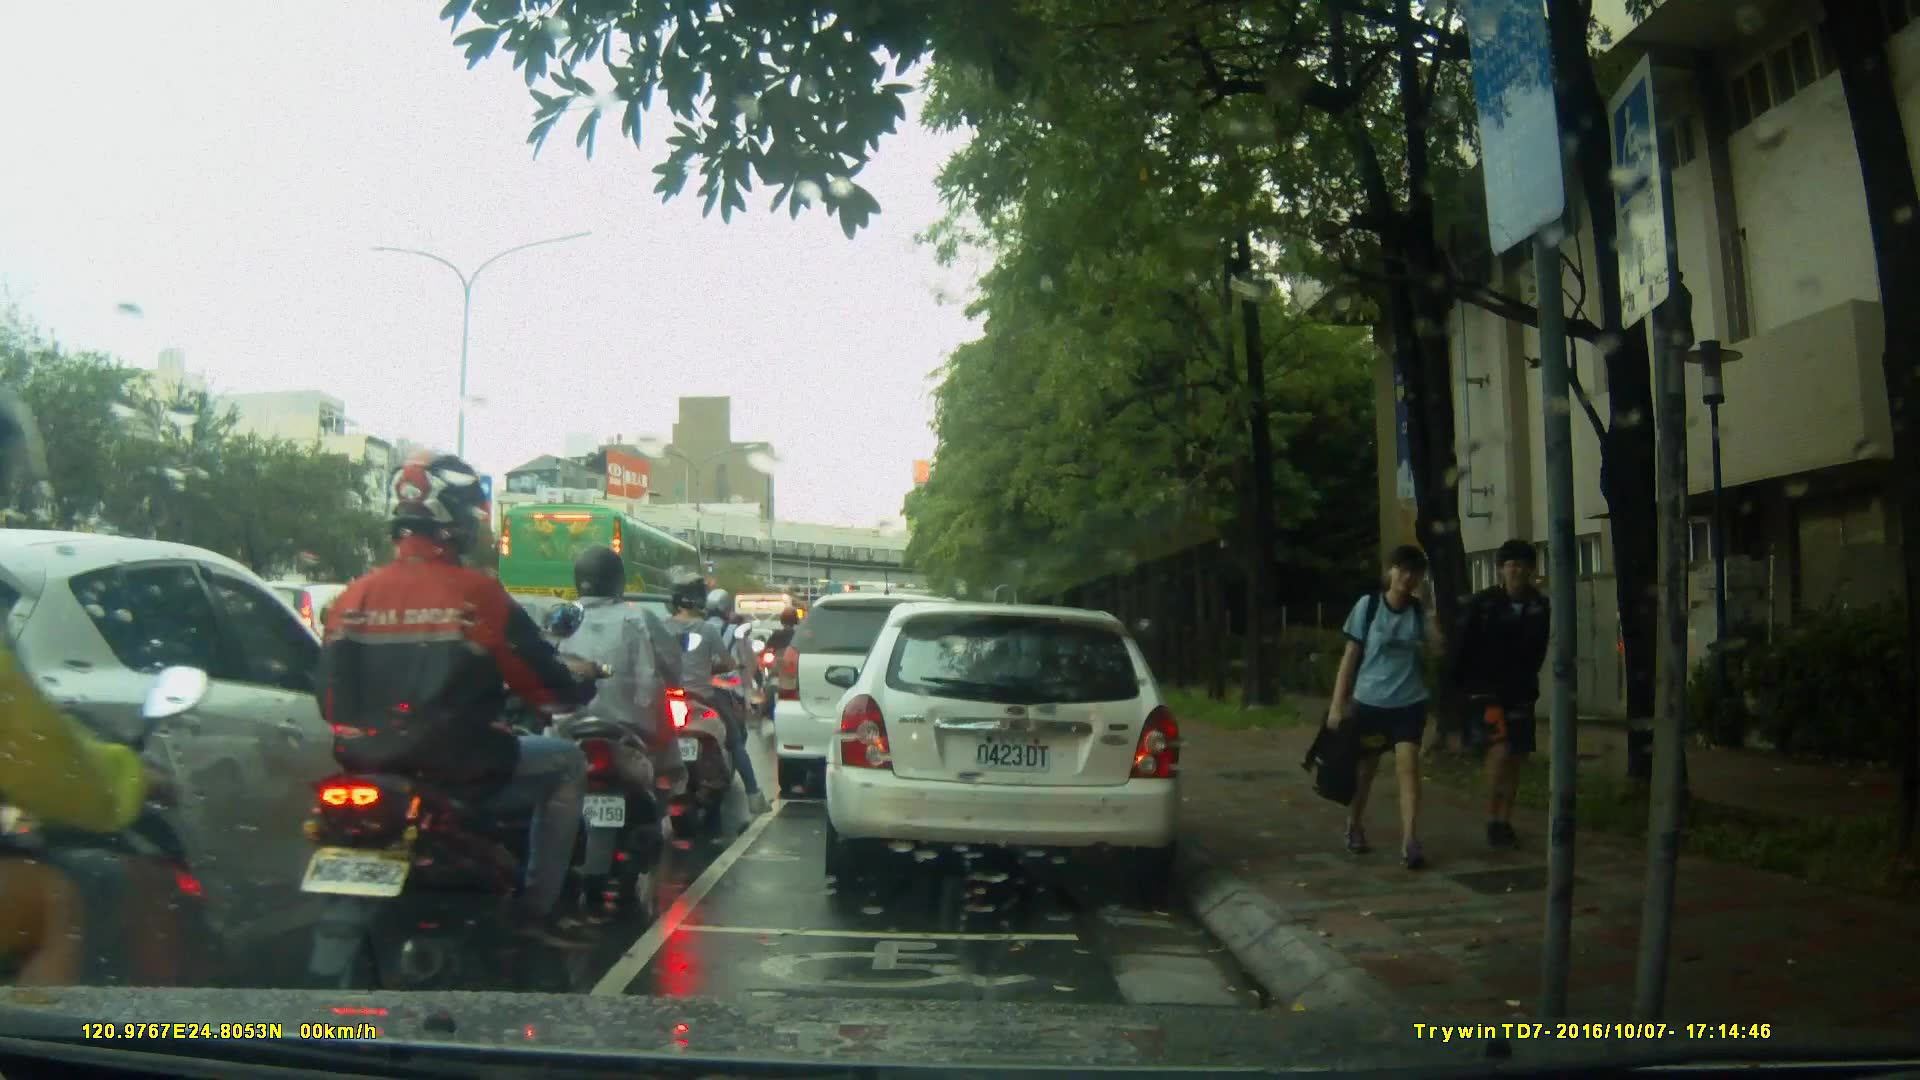pedestrian: (1307, 535, 1464, 867), (1458, 538, 1557, 864)
rider: (301, 446, 613, 1004), (534, 548, 713, 898), (637, 564, 757, 828), (693, 588, 768, 769), (766, 601, 811, 724)
vehicle: (1, 529, 454, 988), (831, 592, 1196, 897), (321, 590, 628, 782), (770, 590, 999, 803), (495, 501, 707, 636)
